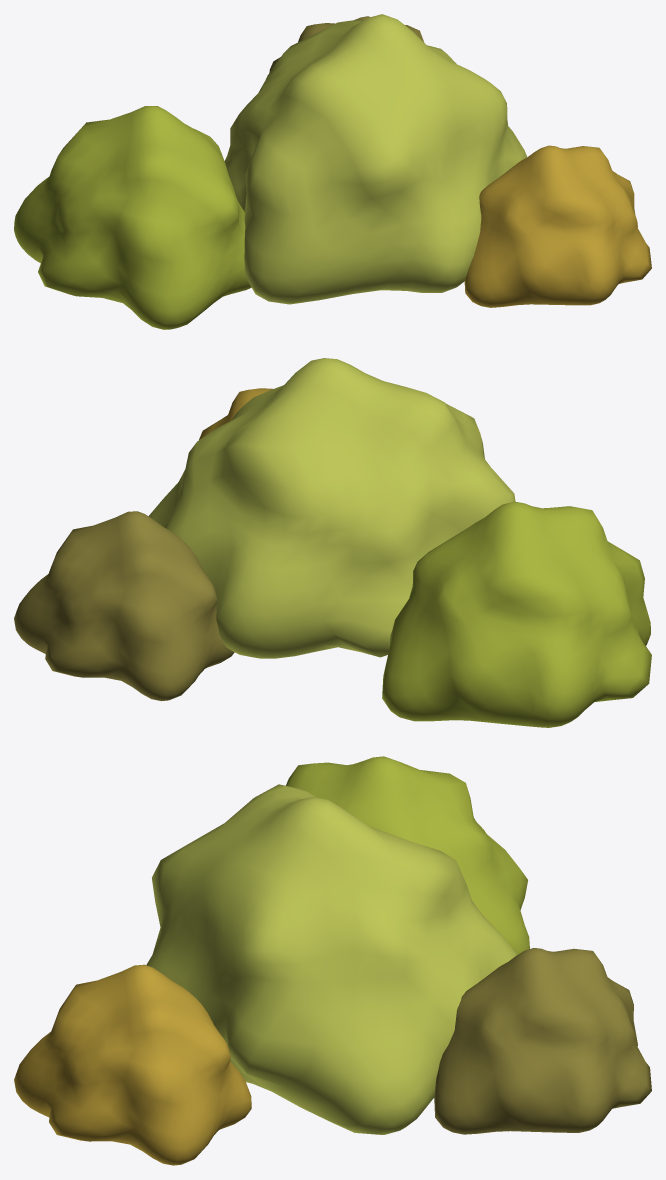
File: bushes_yellow.fbx
3 views of the same model, one above another, from view 1: azimuth 30°, elevation 25°; view 2: azimuth 150°, elevation 25°; view 3: azimuth 270°, elevation 25° (orthographic). The views are drawn at different scales.
Visible parts, largest first — view 1: Icosphere; view 2: Icosphere; view 3: Icosphere.
Part boxes in pixels (<box>): Icosphere: <box>14,14,651,329</box>; Icosphere: <box>14,358,651,727</box>; Icosphere: <box>14,756,651,1165</box>.
Size of the model in its own units: 519 by 229 by 490.
